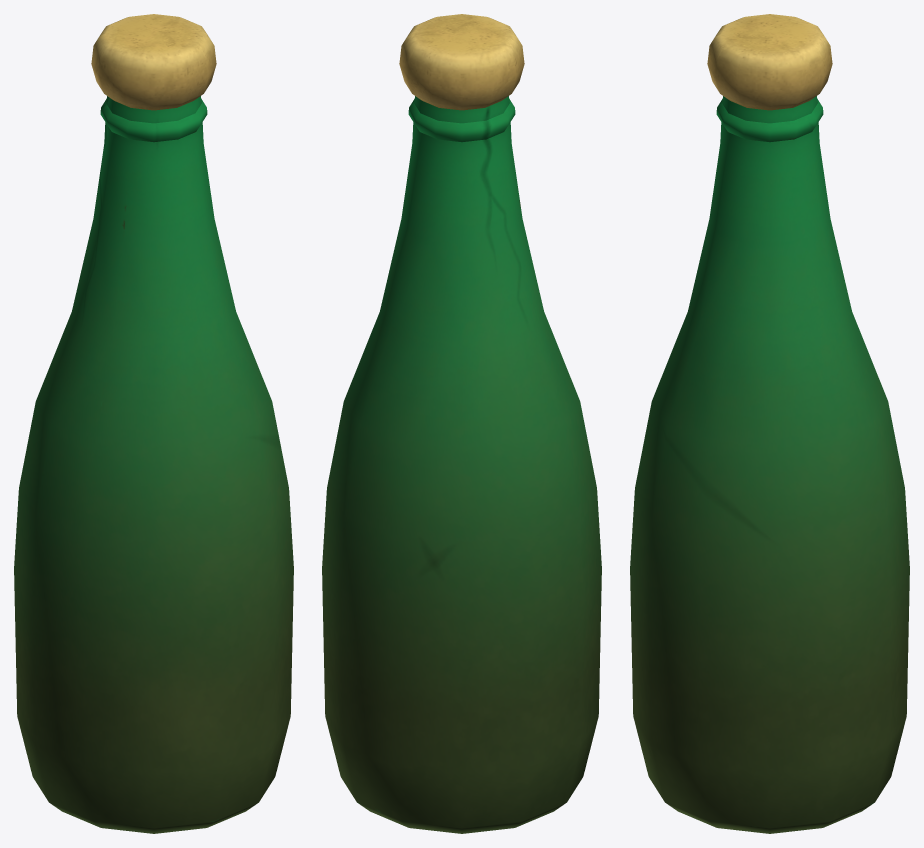
The model's file is SM_Bottle_1.fbx.
3 views of the same model, side by side, from view 1: azimuth 30°, elevation 25°; view 2: azimuth 150°, elevation 25°; view 3: azimuth 270°, elevation 25° (orthographic).
Parts seen in each view (by area): view 1: SM_Bottle_1_LOD0; view 2: SM_Bottle_1_LOD0; view 3: SM_Bottle_1_LOD0.
Boxes of the visible parts, <box> form: SM_Bottle_1_LOD0: <box>14,14,293,833</box>; SM_Bottle_1_LOD0: <box>322,14,601,833</box>; SM_Bottle_1_LOD0: <box>630,14,909,833</box>.
Size of the model in its own units: 10.51 by 10.51 by 31.28.
Materials: 1 (1 with a texture image).
